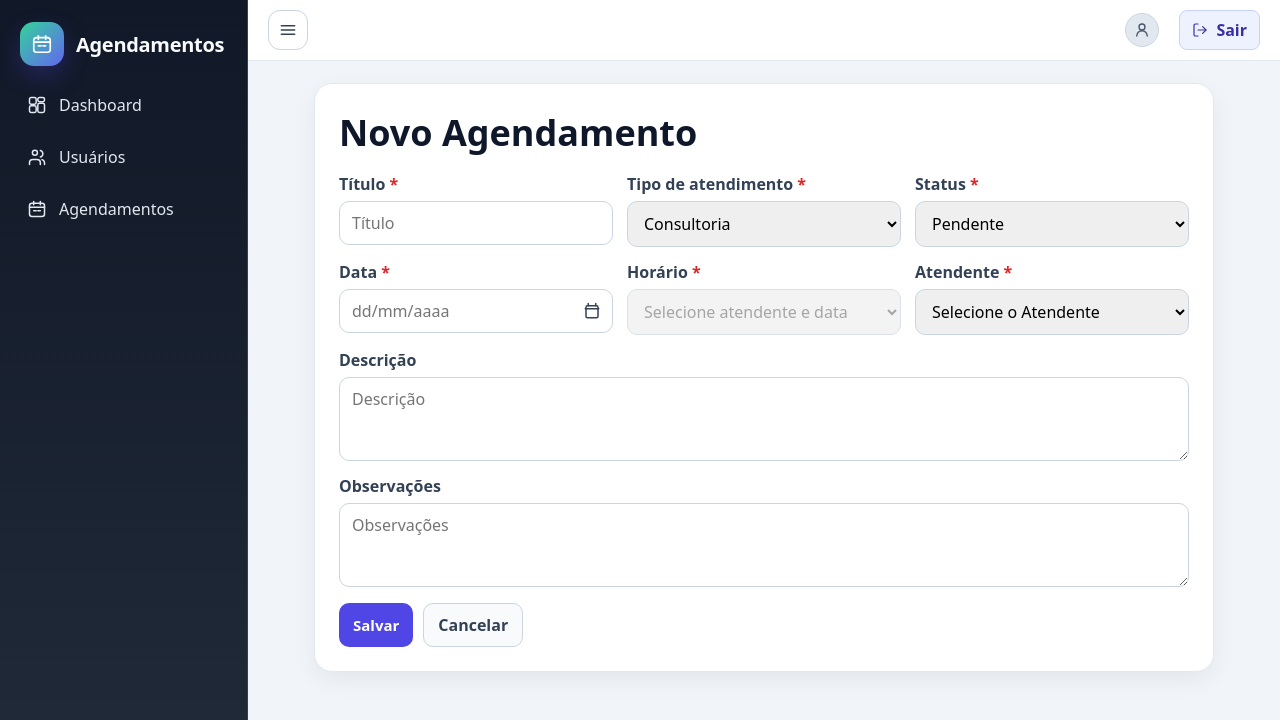
AgendamentoForm - RQF2.1 › valida título obrigatório
Check: the field with placeholder "Título" is shown, box top-left (339, 201), bottom-right (613, 245)
Click the button "Salvar": (376, 625) top-left (339, 603), bottom-right (413, 647)
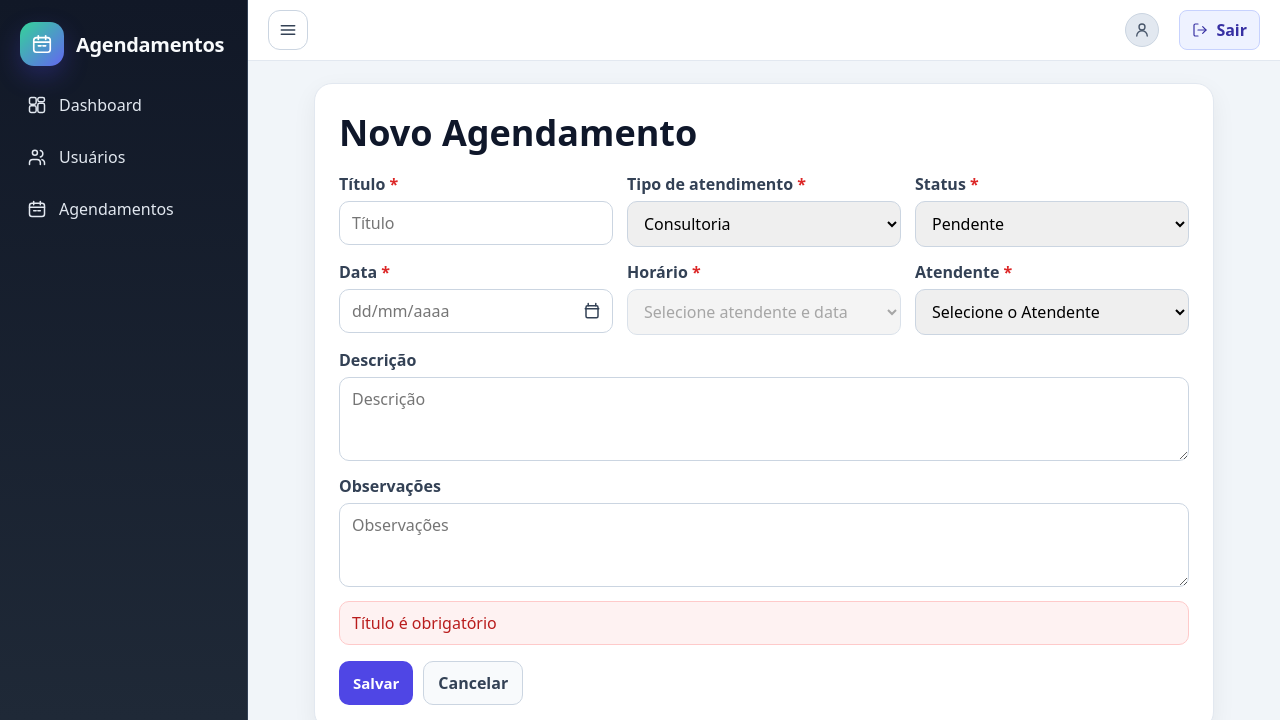
Check: the text with test id "form-error" reads "Título é obrigatório", box top-left (352, 612), bottom-right (497, 634)
